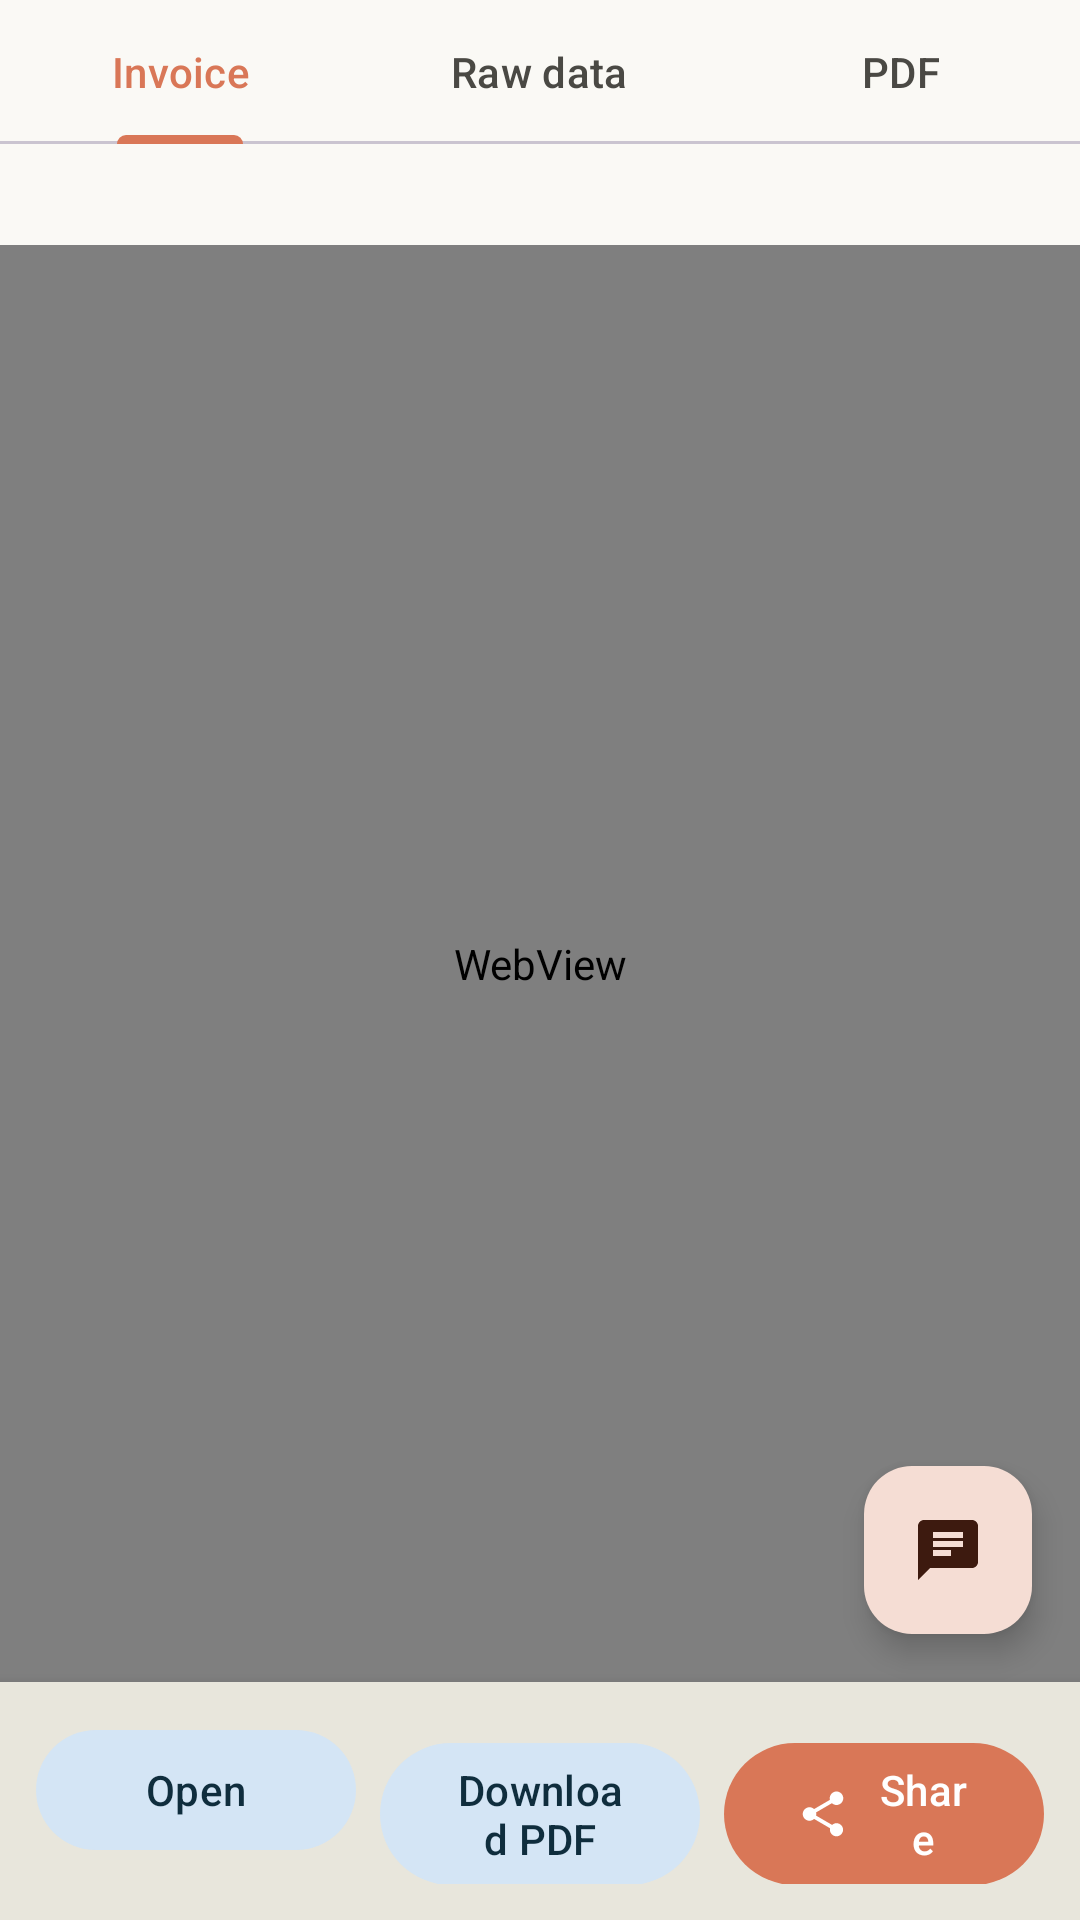

Named icons in this screenshot (1080x1920) and their bounding boxes, [left=x1, top=y1, right=x2, bottom=y2]:
Ask AI about this invoice: [left=864, top=1466, right=1032, bottom=1634]
